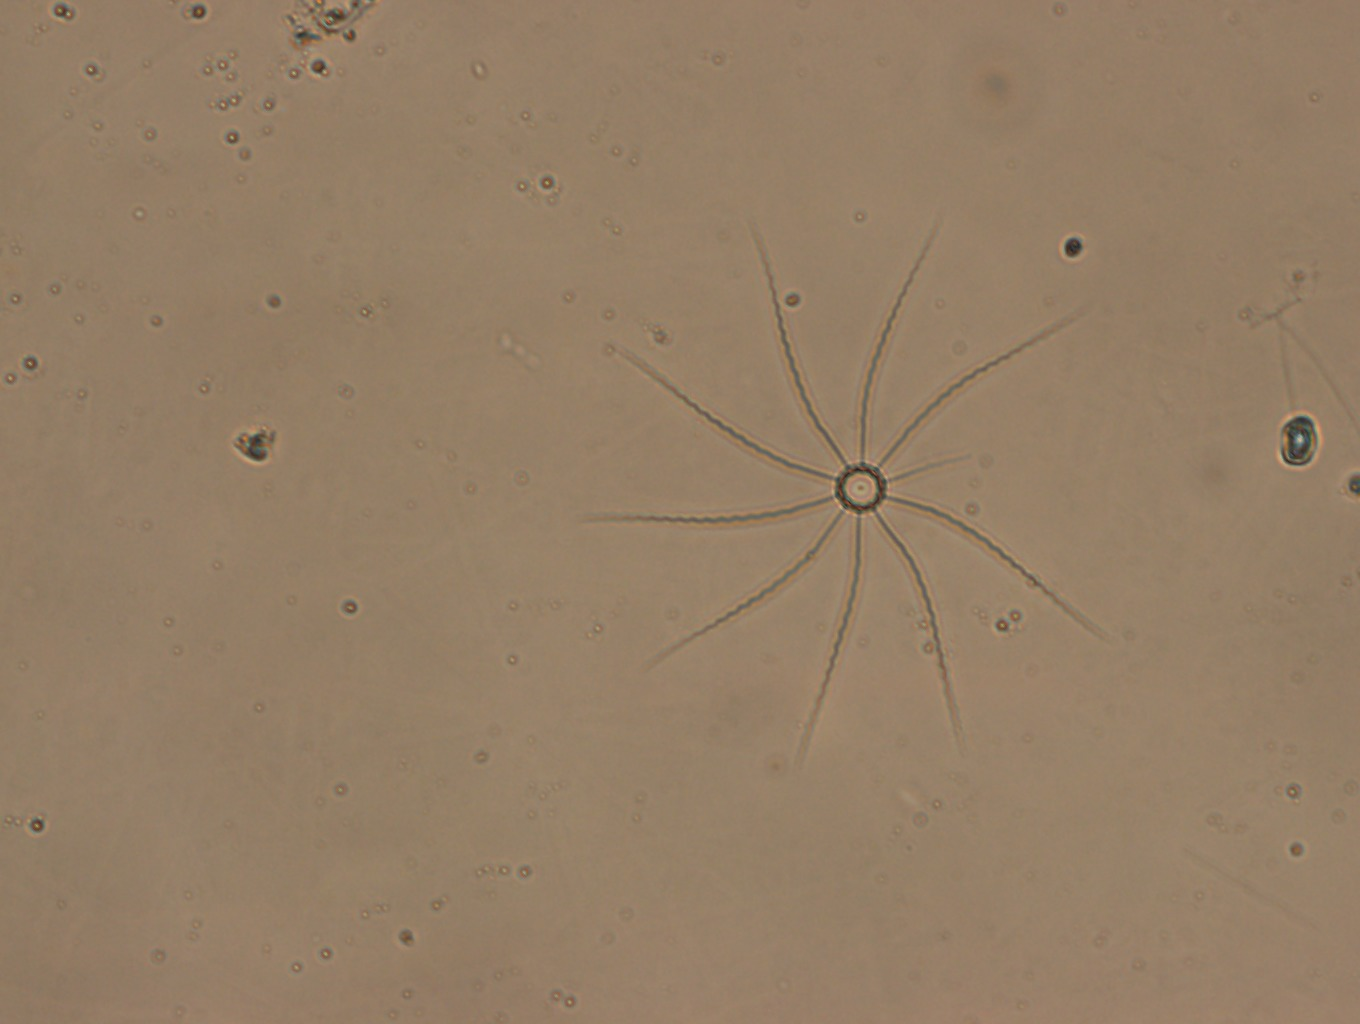bacteriastrum: (577, 205, 1110, 770)
